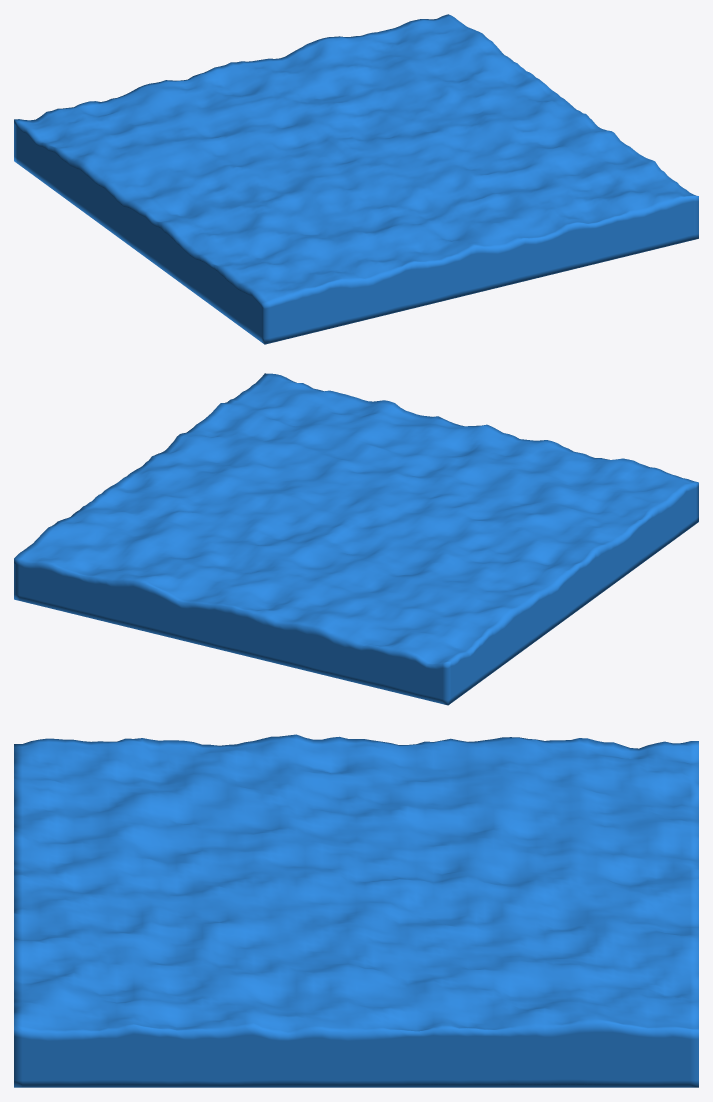
Rendered from water.fbx.
The picture shows the model from 3 angles, top to bottom: view 1: azimuth 30°, elevation 25°; view 2: azimuth 150°, elevation 25°; view 3: azimuth 270°, elevation 25°; orthographic projection. The views are drawn at different scales.
Parts seen in each view (by area): view 1: Cube.002; view 2: Cube.002; view 3: Cube.002.
Part boxes in pixels (x1=…): Cube.002: x1=14, y1=14, x2=698, y2=344; Cube.002: x1=14, y1=373, x2=698, y2=705; Cube.002: x1=14, y1=734, x2=698, y2=1087.
Bounding box in the file's own units: 6550 × 696 × 6550.
